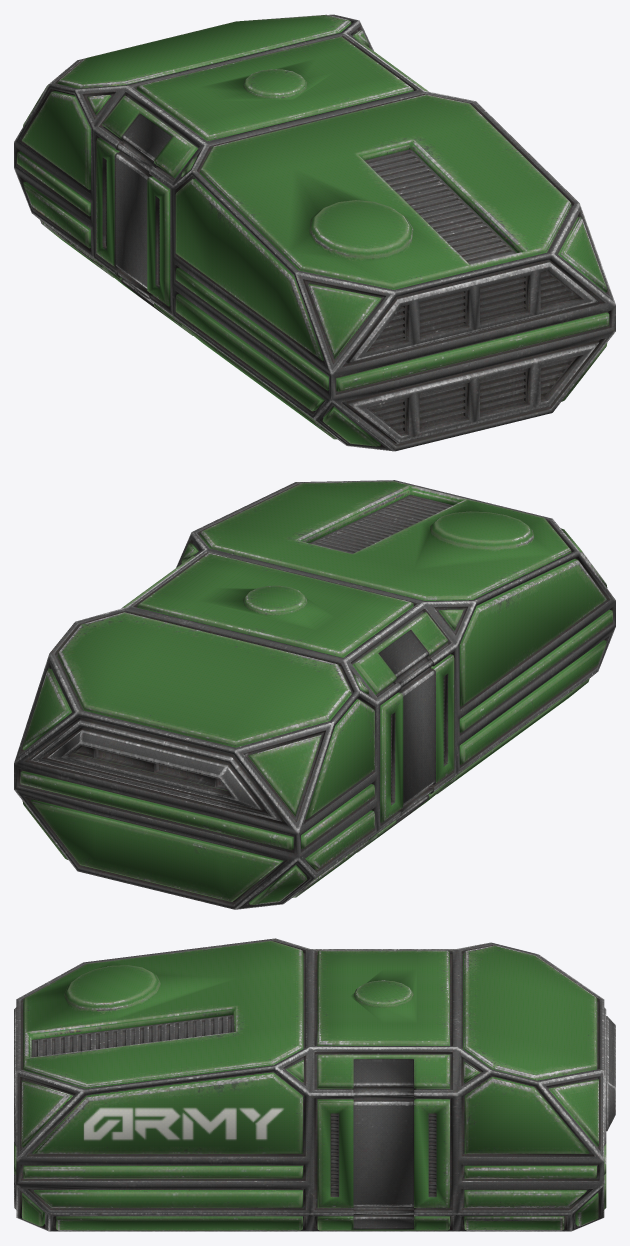
File: apc.glb
3 views of the same model, one above another, from view 1: azimuth 30°, elevation 25°; view 2: azimuth 150°, elevation 25°; view 3: azimuth 270°, elevation 25° (orthographic). The views are drawn at different scales.
Visible parts, largest first — view 1: Cube.005; view 2: Cube.005; view 3: Cube.005.
Part boxes in pixels (left/top/right/bottom): Cube.005: left=14, top=14, right=615, bottom=451; Cube.005: left=14, top=480, right=615, bottom=909; Cube.005: left=14, top=938, right=615, bottom=1231.
Bounding box in the file's own units: 7 × 4.82 × 13.66.
Materials: 1 (1 with a texture image).
